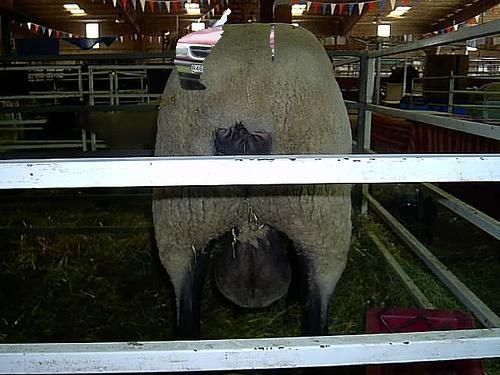tampered: (174, 8, 274, 90)
